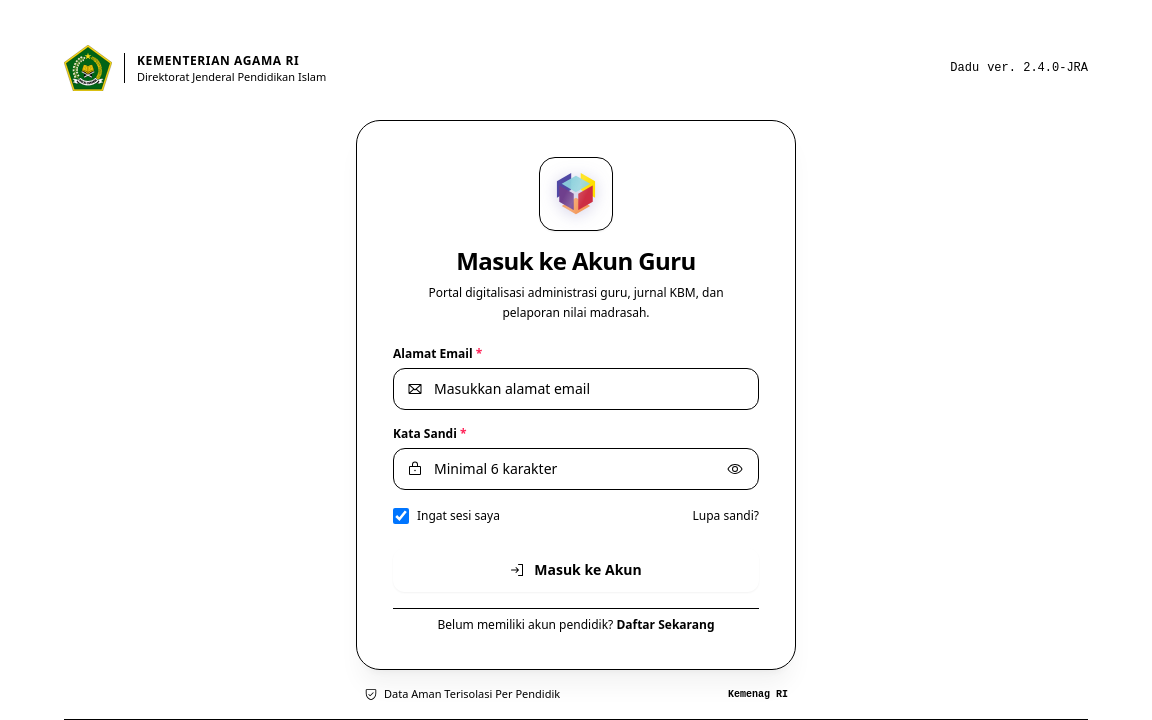
Test: LoginPage - Workflow Demo Removal & Auth Flows Preservation › Preservation of Existing Authentication Flows › displays error message on failed login
This screenshot has width=1152, height=720.
In the field labelled "Alamat Email *": (576, 389) [393,368,759,410], type "wrong@test.com"
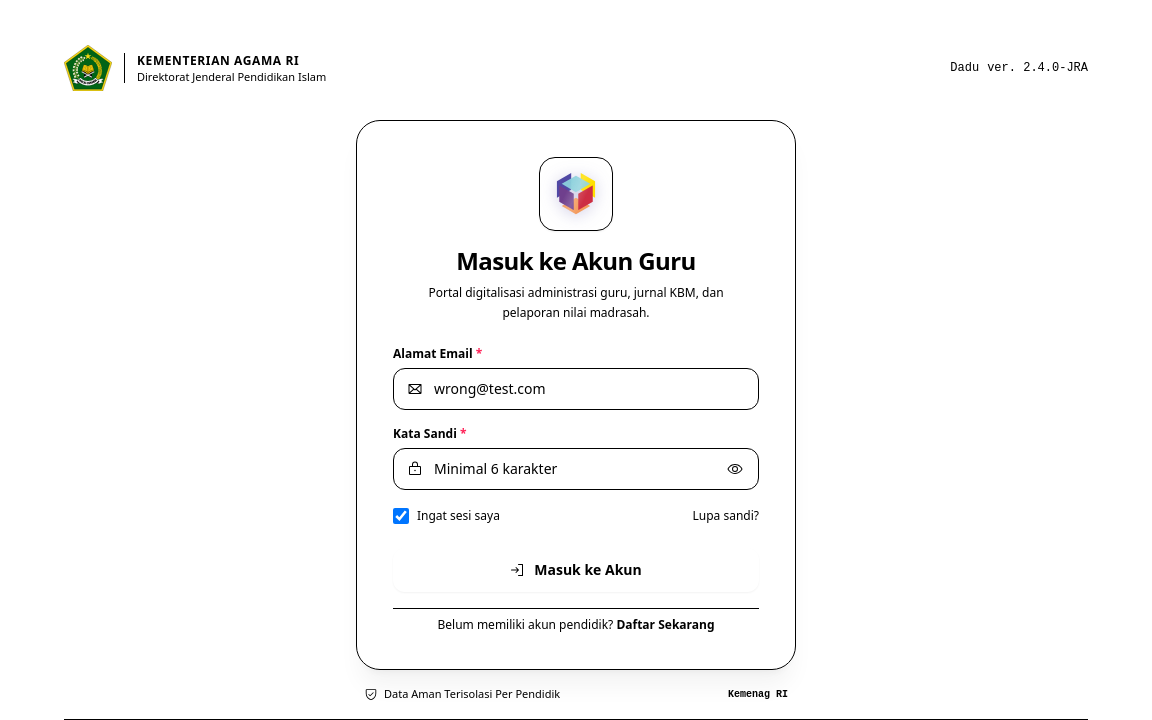
In the password field with id "auth-password": (576, 469) [393,448,759,490], type "wrongpass"
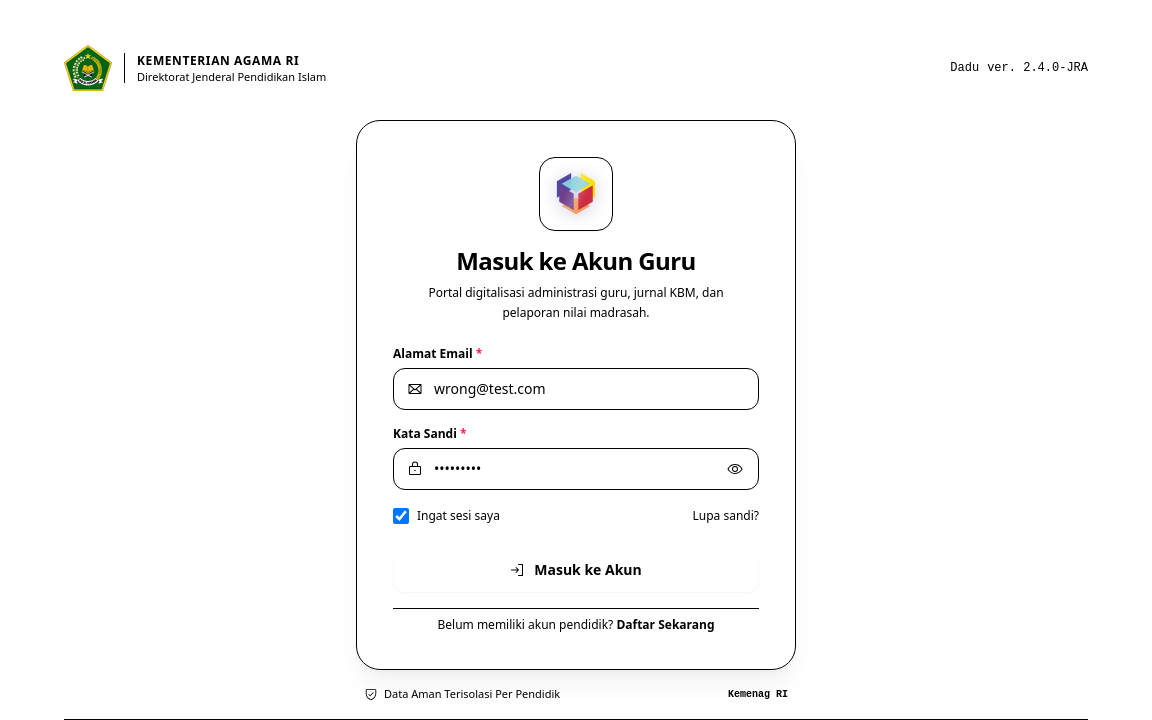
Click the button "Masuk ke Akun": click(576, 570) [393,548,759,592]
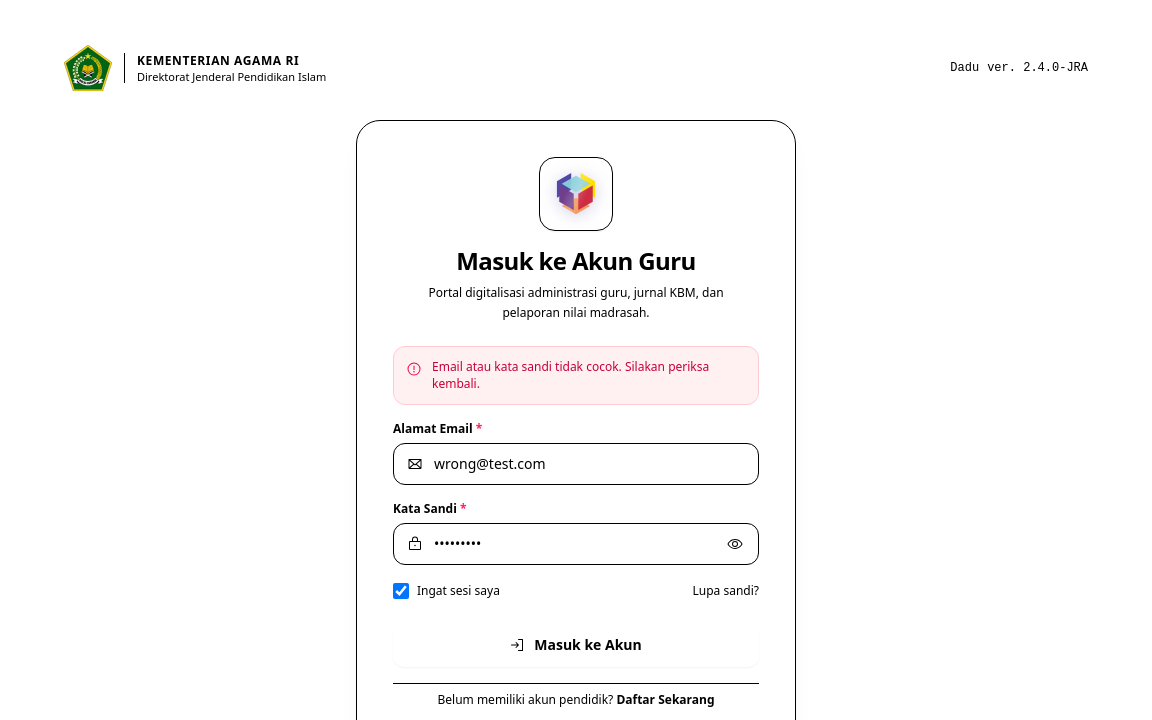
Expected: the text "Email atau kata sandi tidak cocok. Silakan periksa kembali." is shown, [432,359,746,392]
